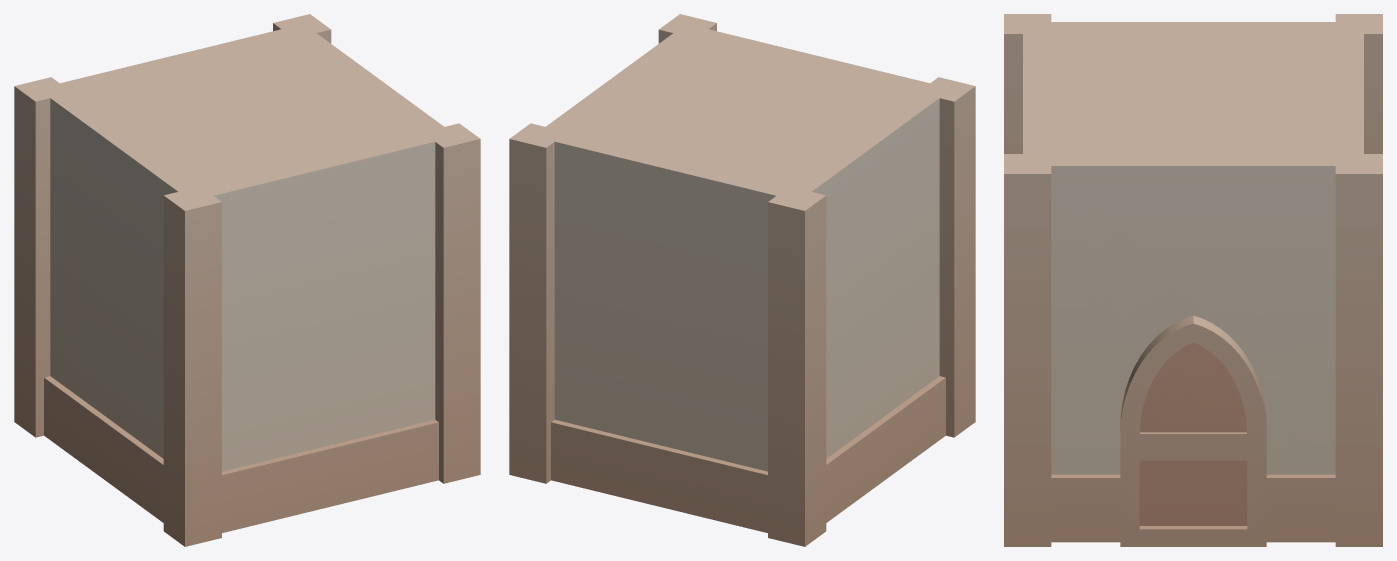
File: tower-square-mid-door.glb
The picture shows the model from 3 angles, left to right: view 1: azimuth 30°, elevation 25°; view 2: azimuth 150°, elevation 25°; view 3: azimuth 270°, elevation 25°; orthographic projection. The views are drawn at different scales.
Parts seen in each view (by area): view 1: tower-square-mid-door; view 2: tower-square-mid-door; view 3: tower-square-mid-door.
Part boxes in pixels (x1,y1,x2,y2): tower-square-mid-door: [14, 14, 480, 546]; tower-square-mid-door: [509, 14, 975, 546]; tower-square-mid-door: [1004, 14, 1382, 546].
Bounding box in the file's own units: 0.93 × 1.01 × 0.93.
